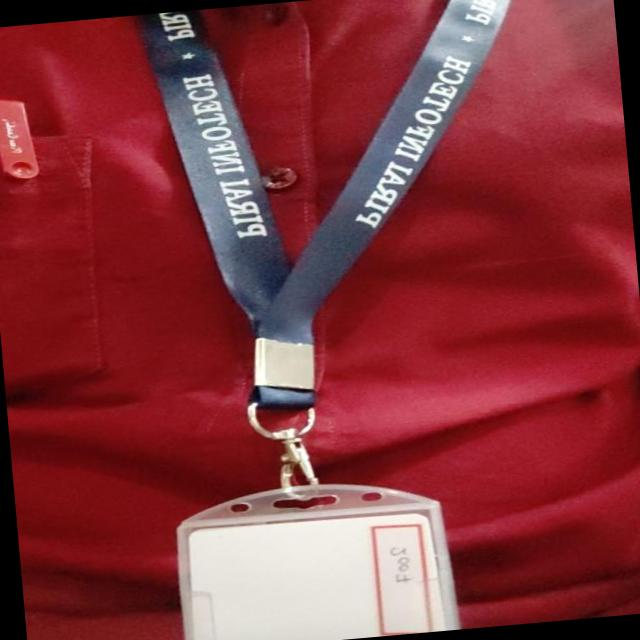id_card: (108, 0, 537, 640)
